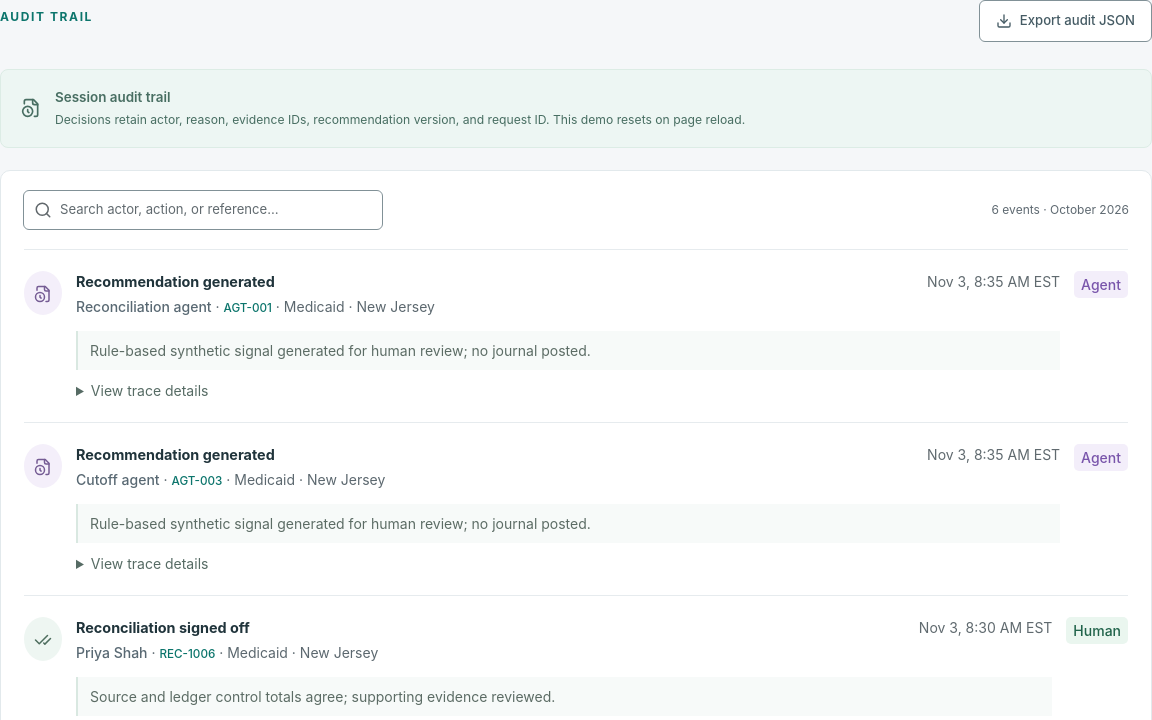
Scenario: exports only audit events matching the scope and active search
The width and height of the screenshot is (1152, 720).
Later steps or results of the test are not shown.
Type "AGT-001" into the field named "Search audit events".
click(216, 210); type("AGT-001")  # box [60,198,372,222]
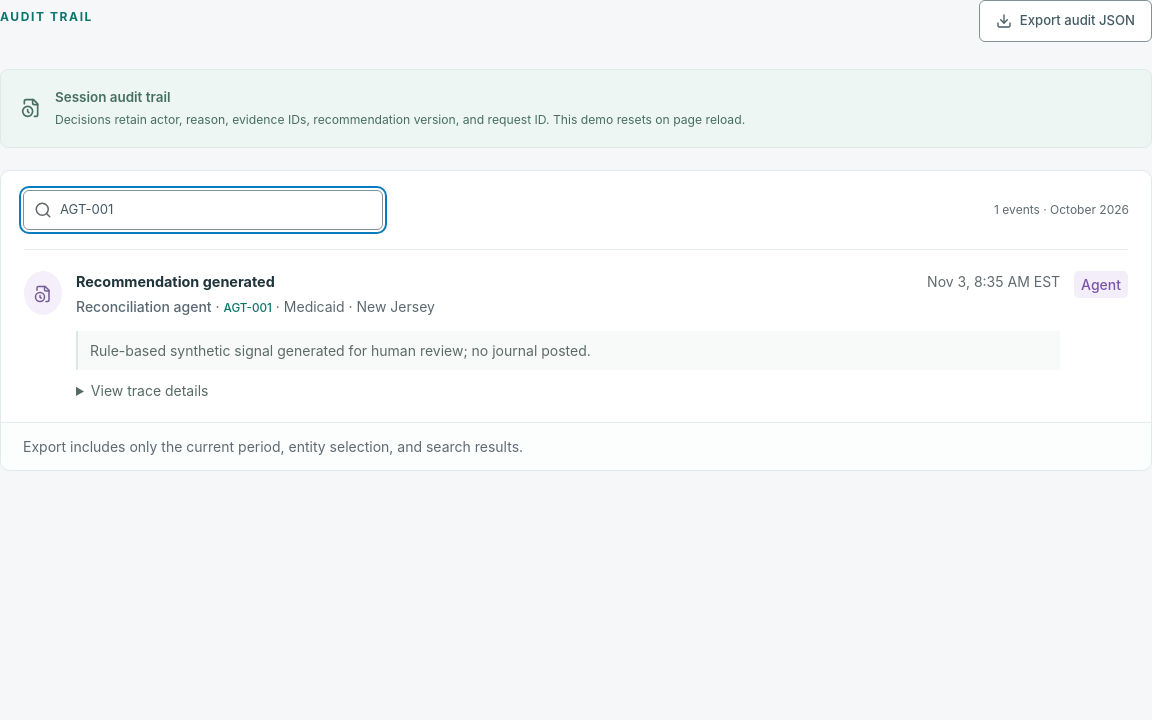
expect the message shows "1 events": met, box [994,201,1129,219]
